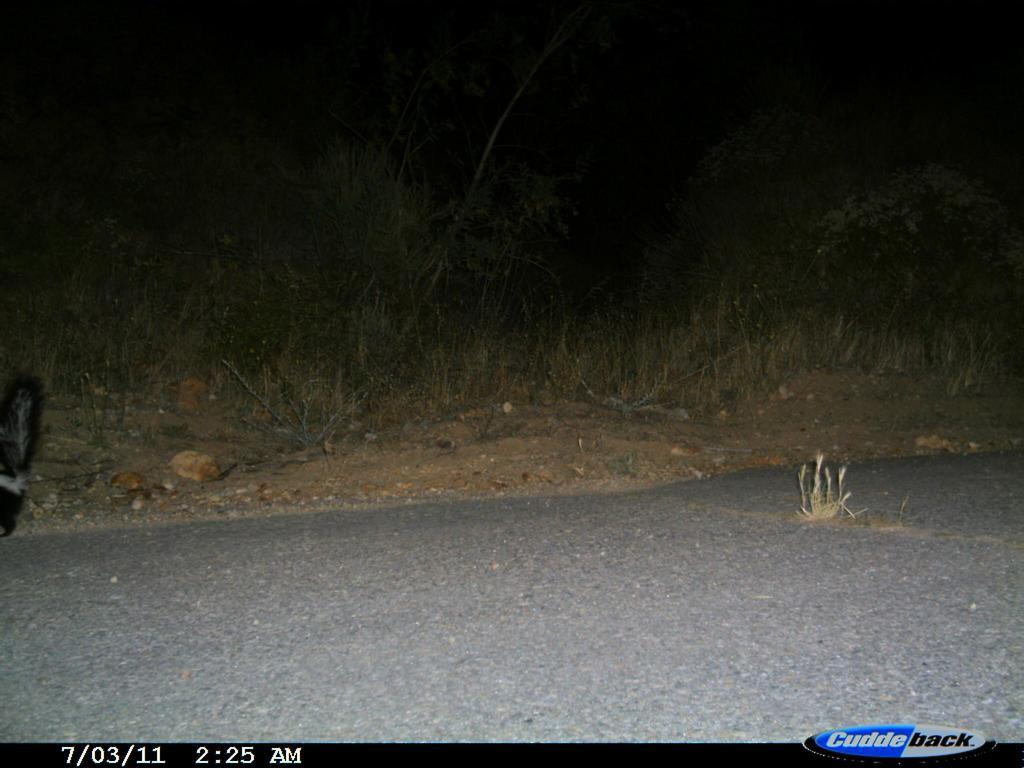skunk: (6, 373, 73, 574)
